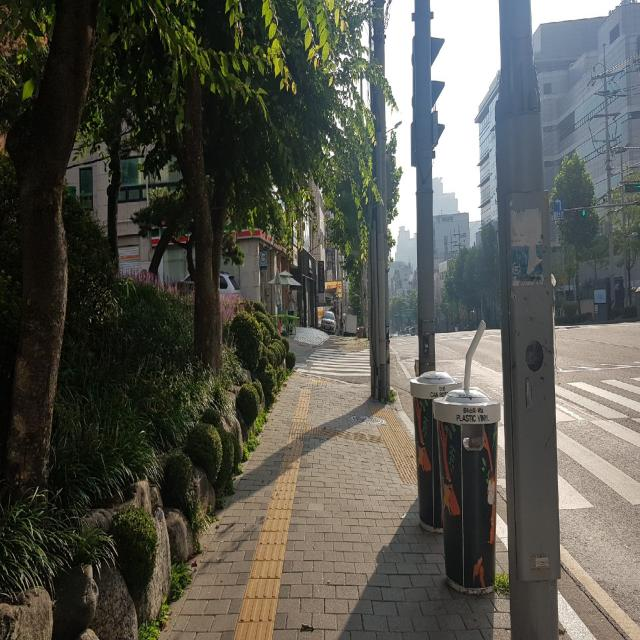횡단보도: (555, 378, 640, 502), (296, 348, 371, 377)
